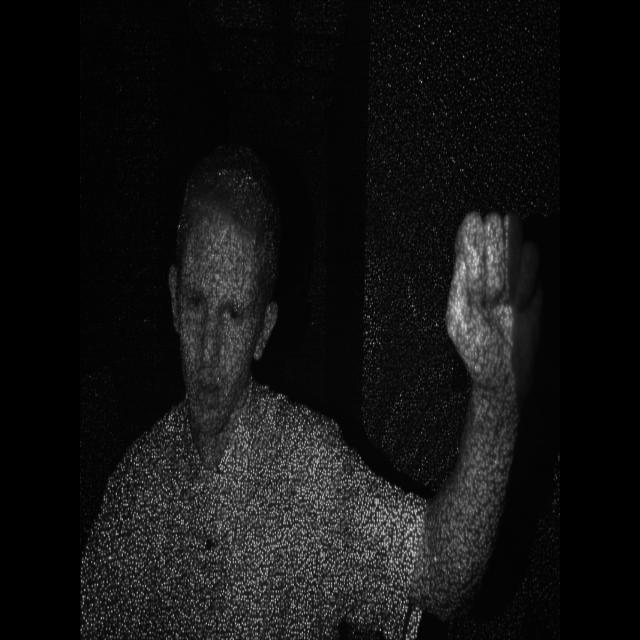E: (440, 195, 530, 392)
